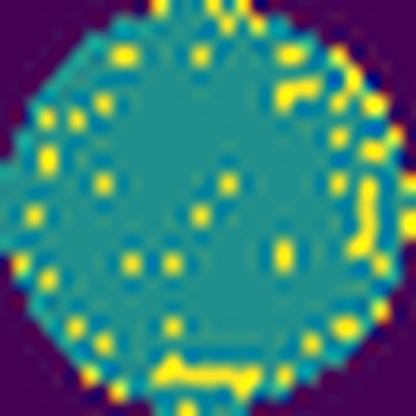Scratch: (148, 347, 265, 405), (338, 171, 388, 267)
